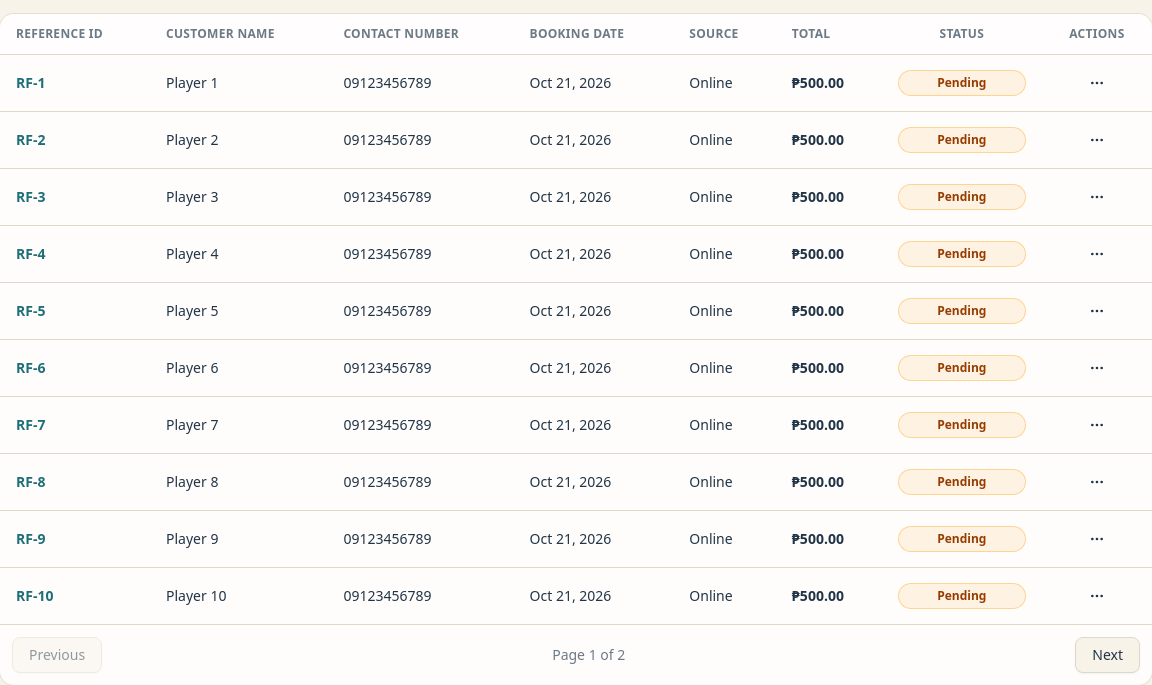
Test: ReservationsView pagination › keeps staff on the same page during refresh when that page still exists
The width and height of the screenshot is (1152, 685).
(page scrolled)
Expected: the text "Page 1 of 2" is shown, 552,645 -> 625,665
Step 1. Click the button "Next" → (1108, 655), box 1075,637 -> 1140,673
(page scrolled)
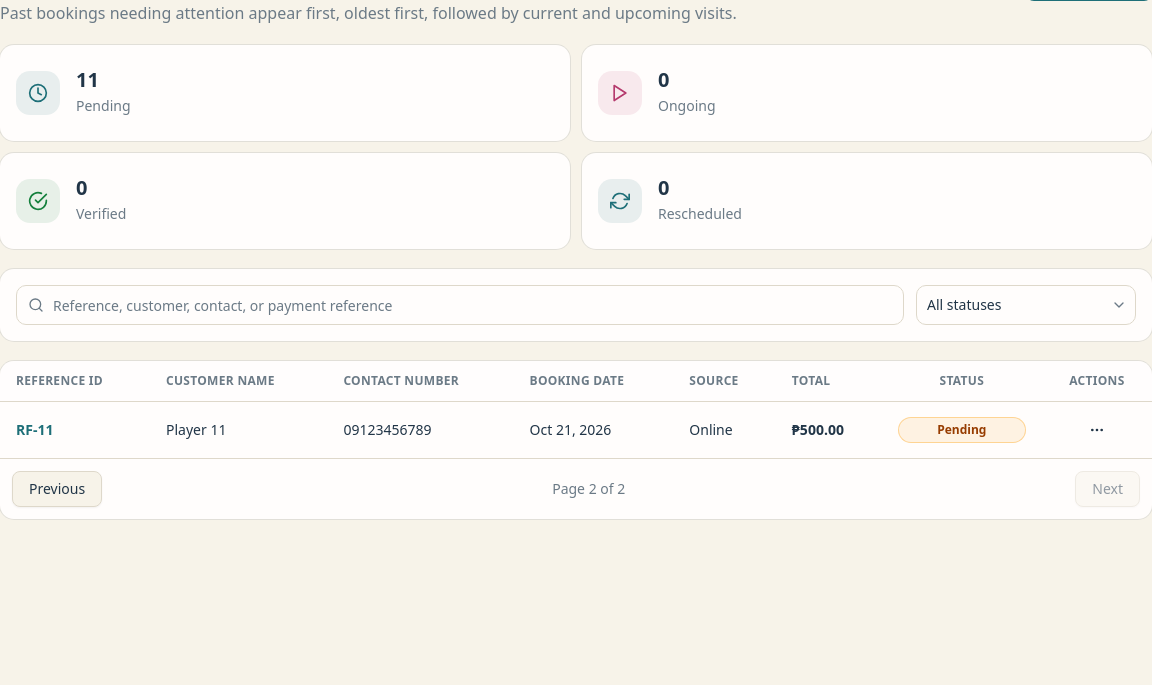
Result: the text "Page 2 of 2" is shown at 552,479 -> 625,499
Result: the text "RF-11" is shown 2 times
